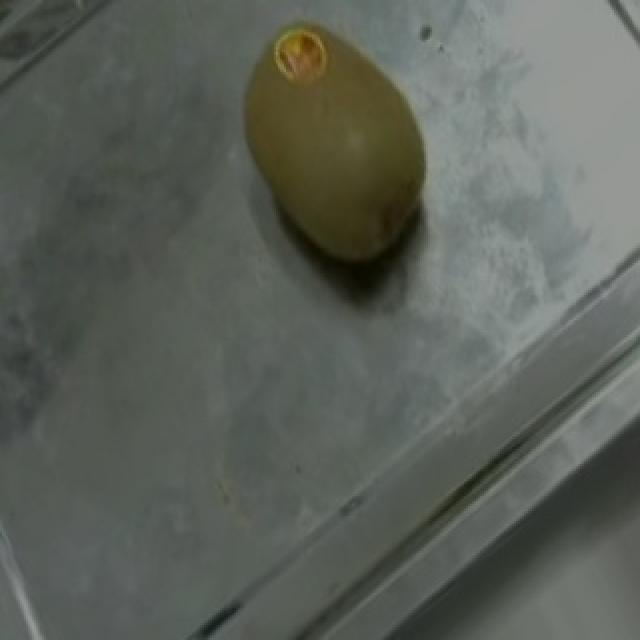Fruit: (204, 5, 472, 308)
